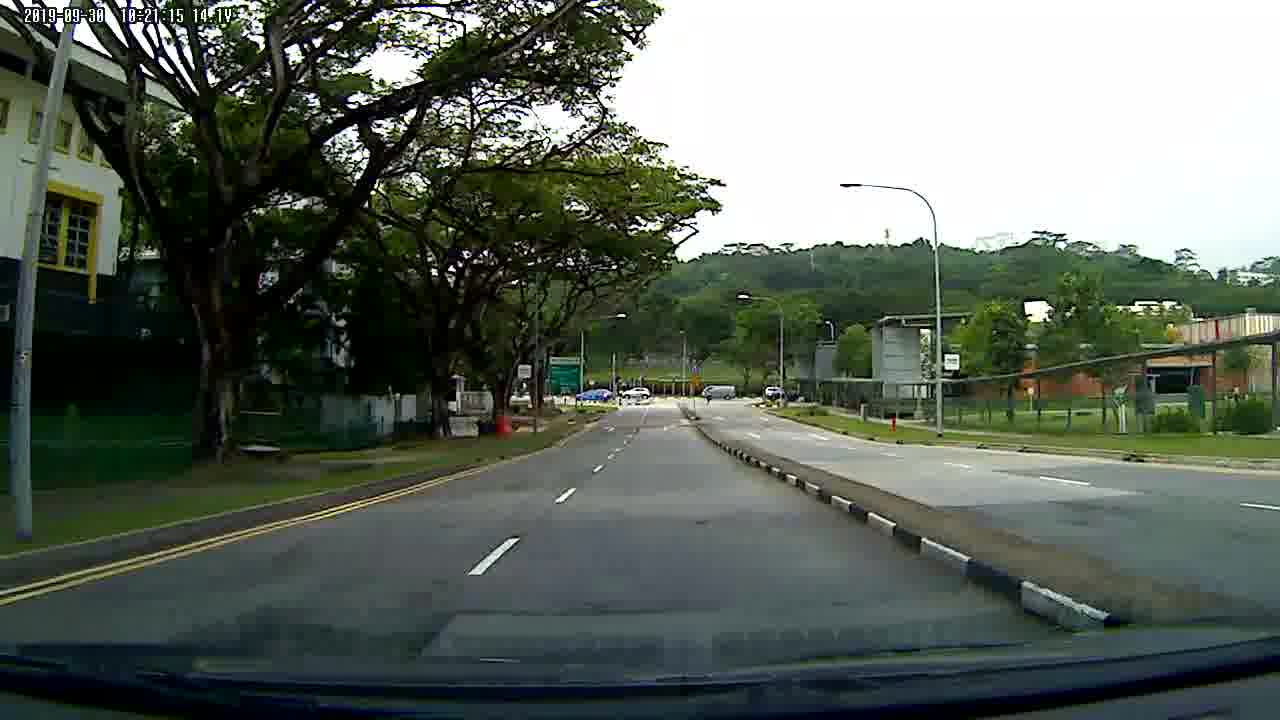car: (574, 387, 612, 403), (620, 386, 653, 400)
